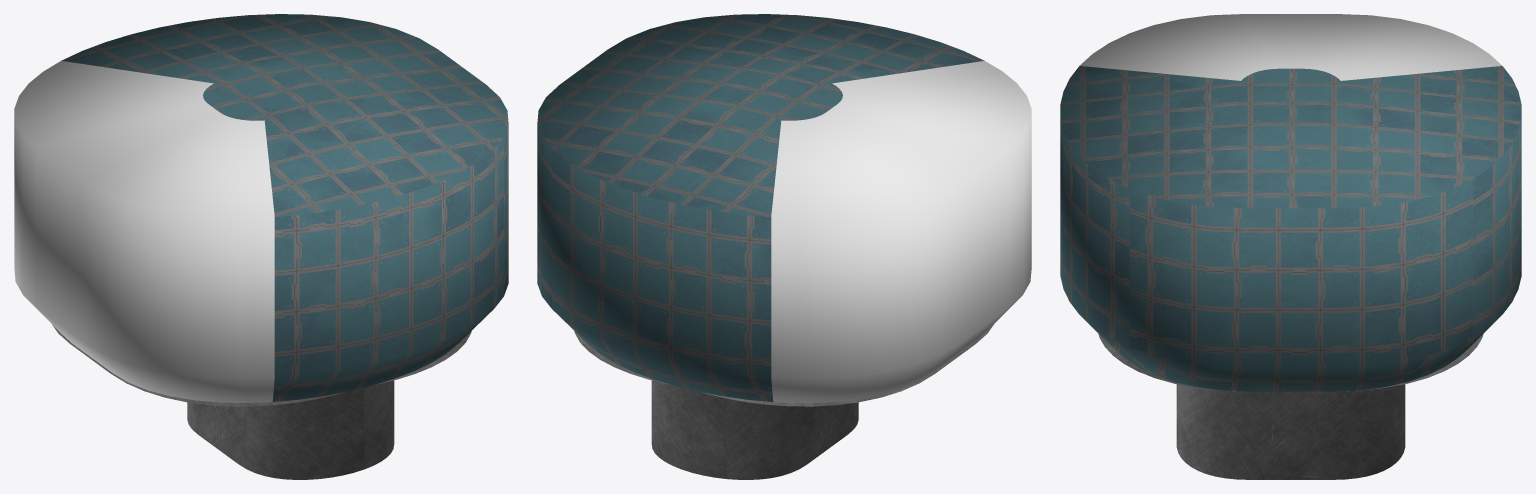
Rendered from Ship_Model.fbx.
3 renders of one model, left to right at view 1: azimuth 30°, elevation 25°; view 2: azimuth 150°, elevation 25°; view 3: azimuth 270°, elevation 25°, orthographic.
Visible parts, largest first — view 1: Ship_wall, Ship_screen, Ship_desk; view 2: Ship_wall, Ship_screen, Ship_desk; view 3: Ship_wall, Ship_desk, Ship_screen.
Boxes of the visible parts, x1,y1,x2,y2 form: Ship_wall: (61, 14, 508, 401); Ship_screen: (14, 61, 274, 402); Ship_desk: (52, 324, 471, 479); Ship_wall: (537, 14, 984, 401); Ship_screen: (771, 61, 1031, 402); Ship_desk: (574, 324, 993, 479); Ship_wall: (1060, 66, 1521, 391); Ship_desk: (1098, 334, 1483, 479); Ship_screen: (1079, 14, 1502, 80).
Bounding box in the file's own units: 551 × 449 × 553.
